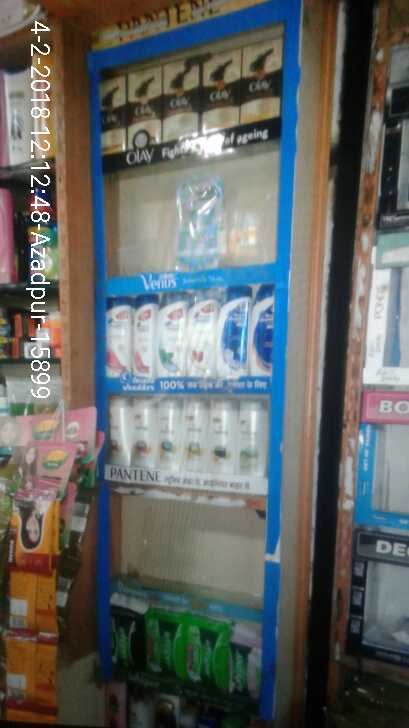venus: (180, 179, 224, 267)
